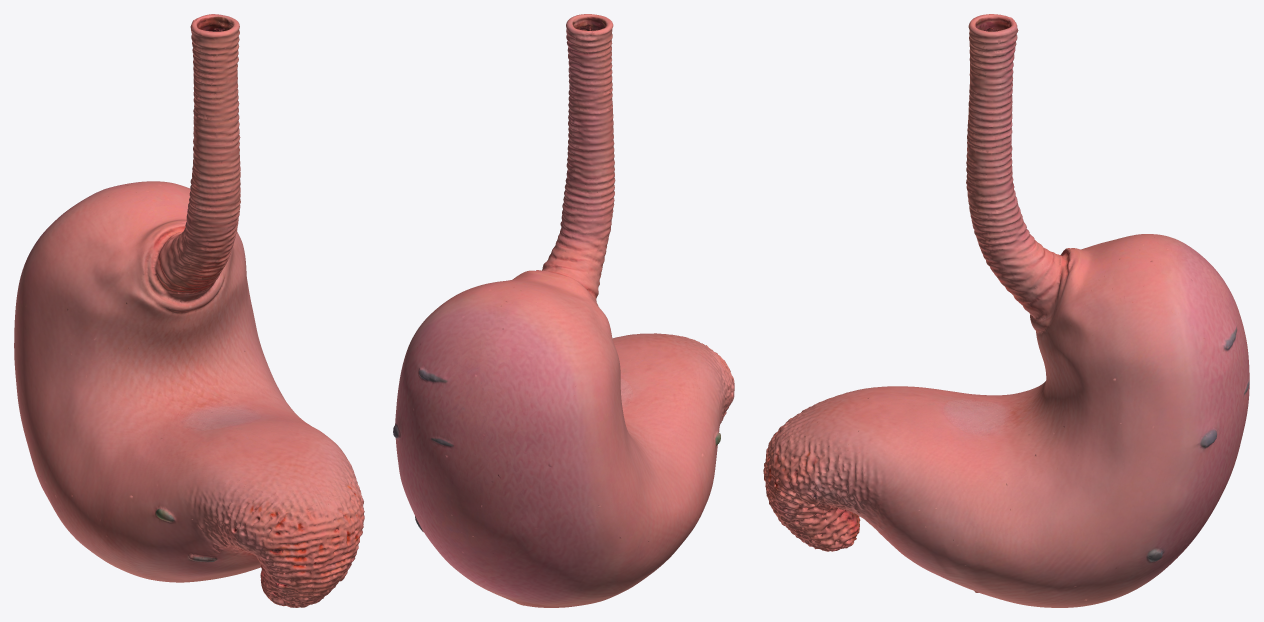
File: stomach.glb
3 renders of one model, left to right at view 1: azimuth 30°, elevation 25°; view 2: azimuth 150°, elevation 25°; view 3: azimuth 270°, elevation 25°, orthographic. The views are drawn at different scales.
Bounding box in the file's own units: 0.8681 × 2 × 1.56.
1 material, 1 textured.
